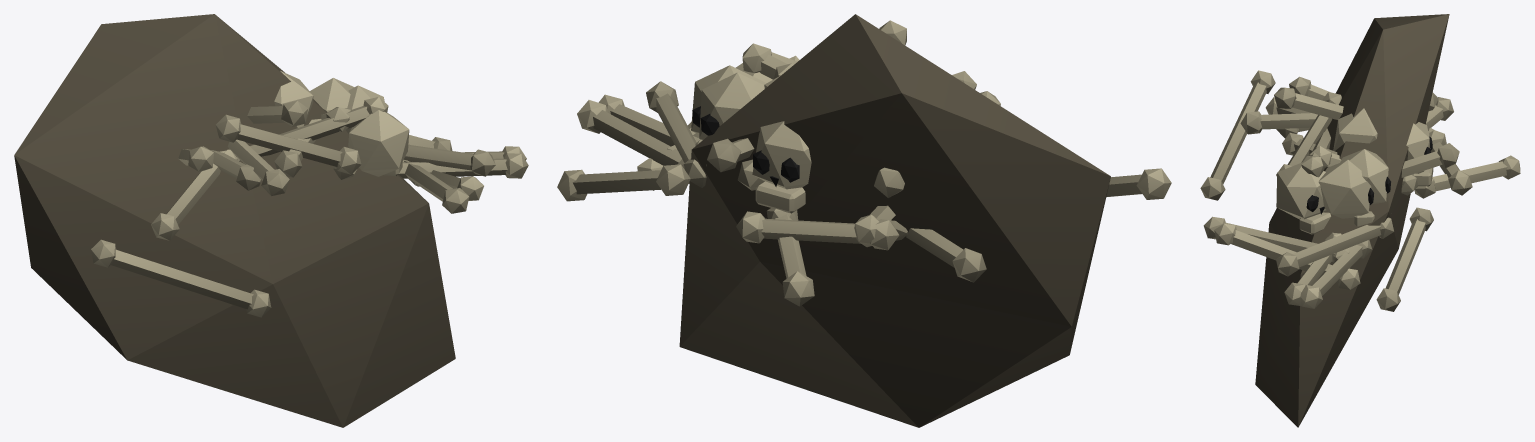
The model's file is bone_pile.glb.
3 renders of one model, left to right at view 1: azimuth 30°, elevation 25°; view 2: azimuth 150°, elevation 25°; view 3: azimuth 270°, elevation 25°, orthographic. The views are drawn at different scales.
Visible parts, largest first — view 1: bone_pile_mesh; view 2: bone_pile_mesh; view 3: bone_pile_mesh.
Boxes of the visible parts, box(x1,y1,x2,y2) form: bone_pile_mesh: box(14, 14, 528, 427); bone_pile_mesh: box(557, 14, 1171, 427); bone_pile_mesh: box(1200, 14, 1520, 427).
Size of the model in its own units: 1.85 by 1.4 by 1.23.
